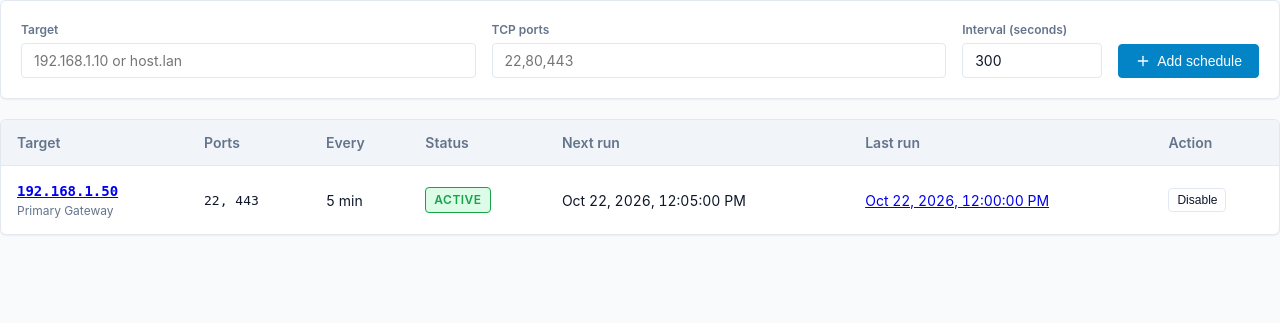
Test: Schedules Page › disables a schedule with PATCH
The image size is (1280, 323).
Click the button with aria-label "Disable schedule for 192.168.1.50": (1198,200) [1168,188,1226,212]
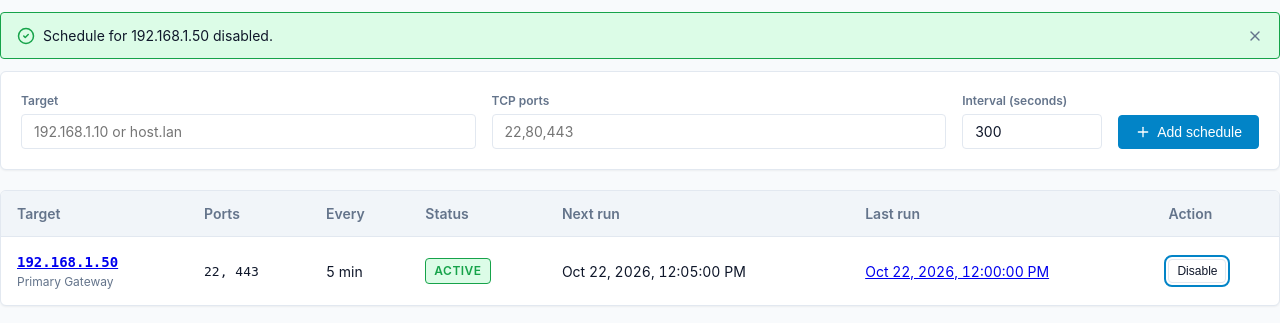
expect the text "Schedule for 192.168.1.50 disabled." is shown: met, box [43,25,273,46]
